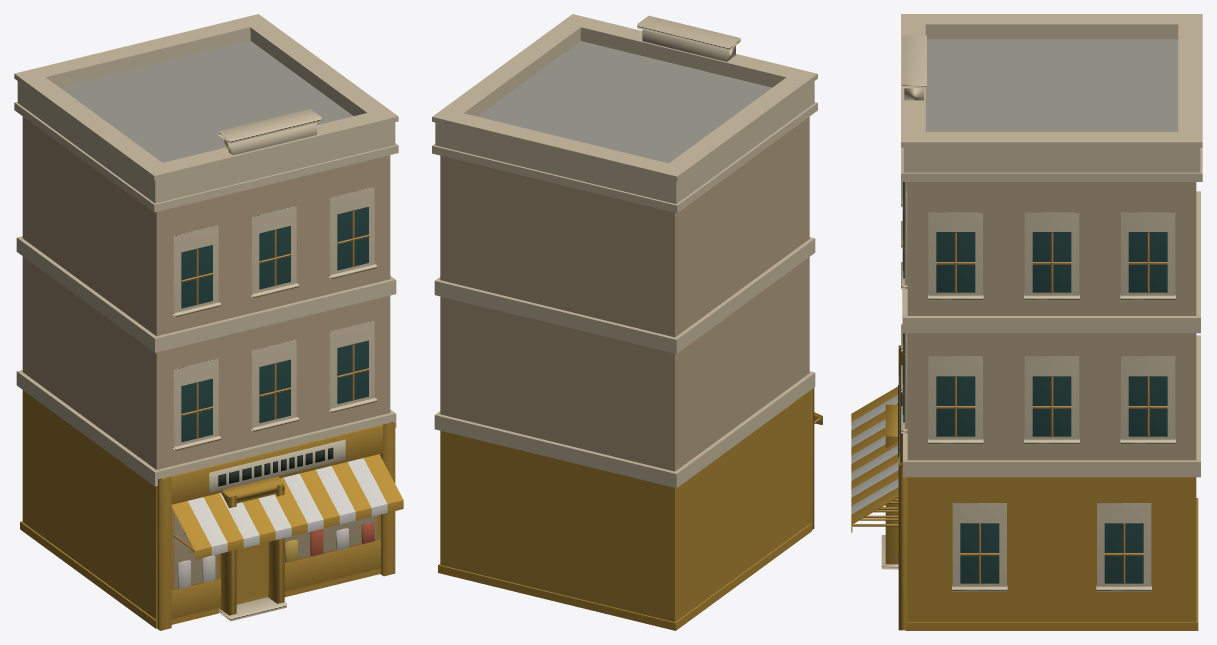
File: city_tan_3.glb
The picture shows the model from 3 angles, left to right: view 1: azimuth 30°, elevation 25°; view 2: azimuth 150°, elevation 25°; view 3: azimuth 270°, elevation 25°; orthographic projection. The views are drawn at different scales.
Visible parts, largest first — view 1: city_tan_3; view 2: city_tan_3; view 3: city_tan_3.
Part boxes in pixels (x1,y1,x2,y2): city_tan_3: (14, 14, 403, 630); city_tan_3: (432, 14, 822, 630); city_tan_3: (851, 14, 1202, 630).
Size of the model in its own units: 4.69 by 8.66 by 5.42.
